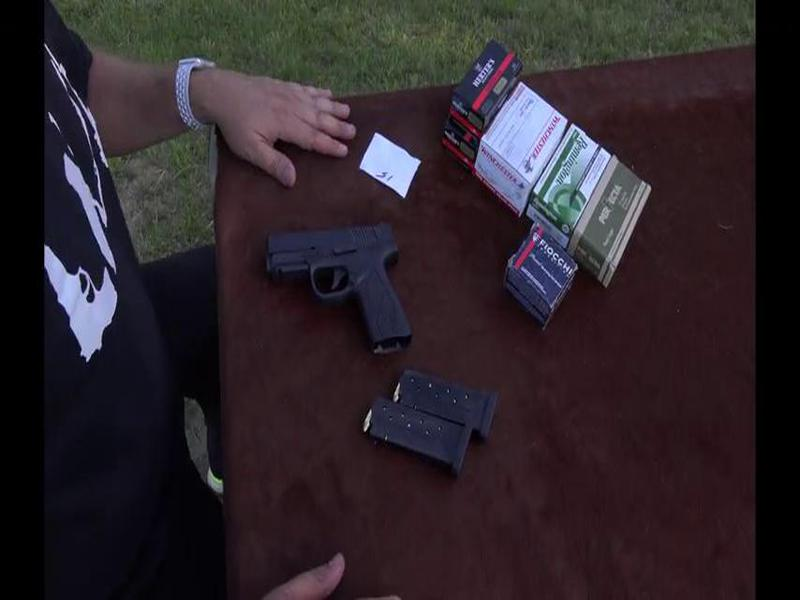Pistola: (232, 214, 446, 344)
